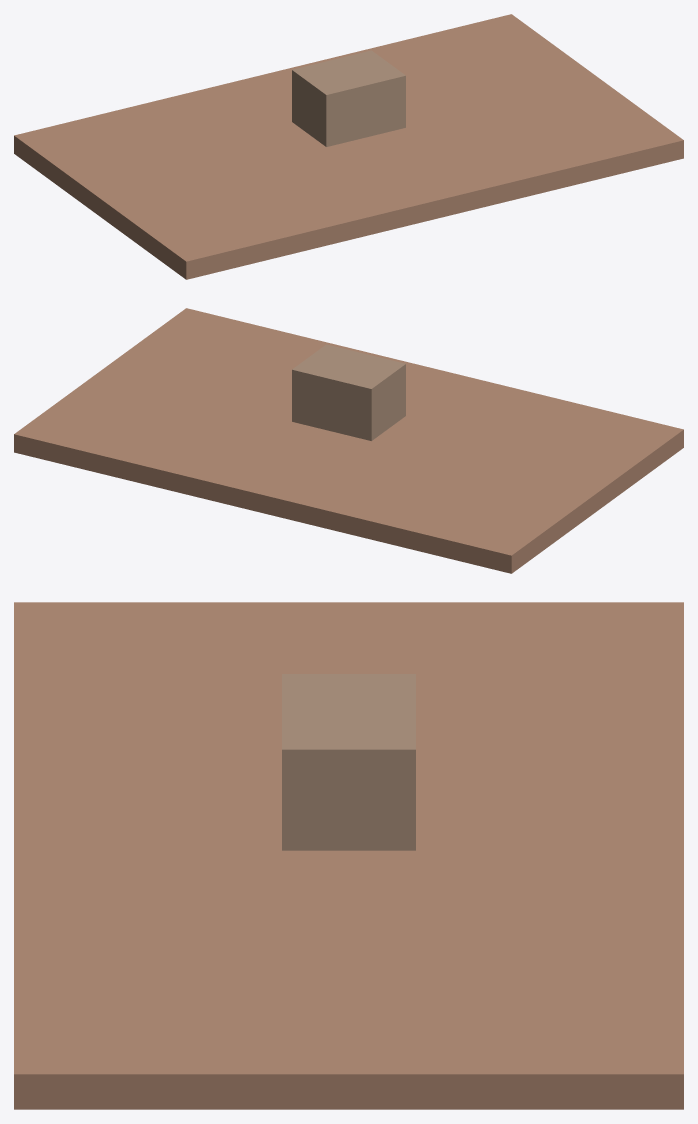
3 renders of one model, top to bottom at view 1: azimuth 30°, elevation 25°; view 2: azimuth 150°, elevation 25°; view 3: azimuth 270°, elevation 25°, orthographic. The views are drawn at different scales.
Parts seen in each view (by area): view 1: substrate_find_me_cure_pancreatic, 01_unspecified_subsystem; view 2: substrate_find_me_cure_pancreatic, 01_unspecified_subsystem; view 3: substrate_find_me_cure_pancreatic, 01_unspecified_subsystem.
Part boxes in pixels (x1,y1,x2,y2): substrate_find_me_cure_pancreatic: (14, 14, 683, 279); 01_unspecified_subsystem: (292, 50, 405, 146); substrate_find_me_cure_pancreatic: (14, 308, 683, 573); 01_unspecified_subsystem: (292, 344, 405, 440); substrate_find_me_cure_pancreatic: (14, 602, 683, 1109); 01_unspecified_subsystem: (282, 674, 415, 850).
Bounding box in the file's own units: 10 × 1.6 × 6.
